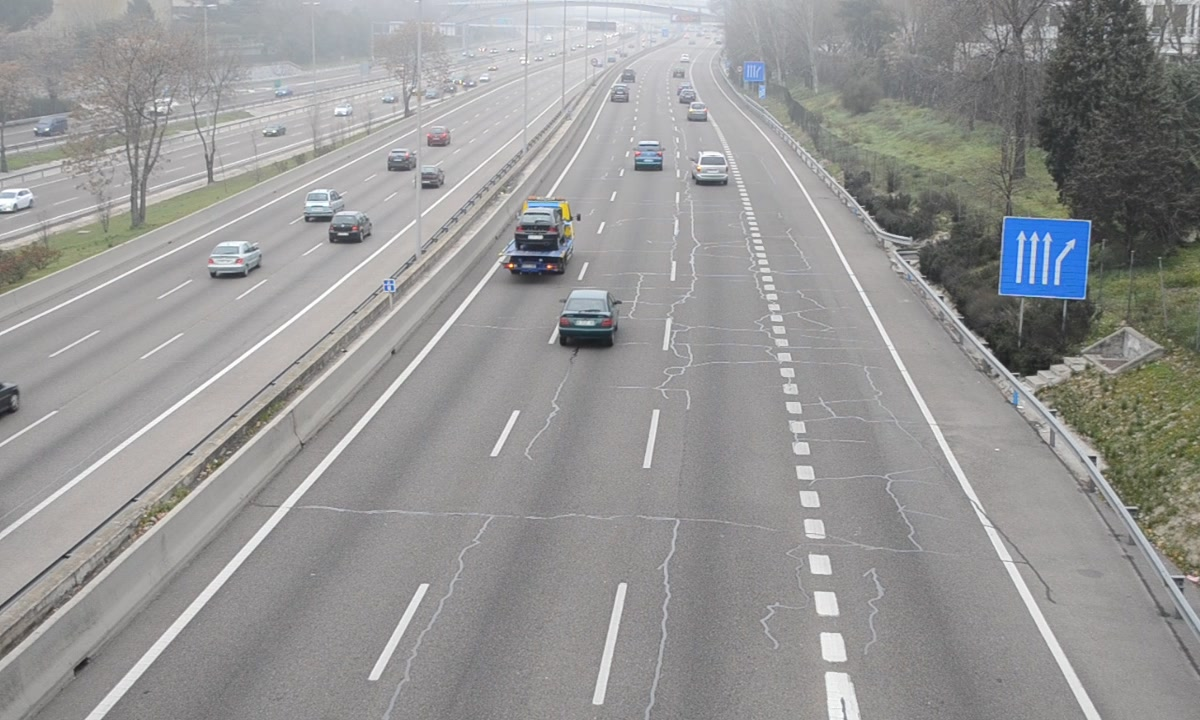car: (559, 290, 619, 340), (691, 151, 729, 183), (633, 141, 664, 168)
small-truck: (500, 198, 576, 276)
